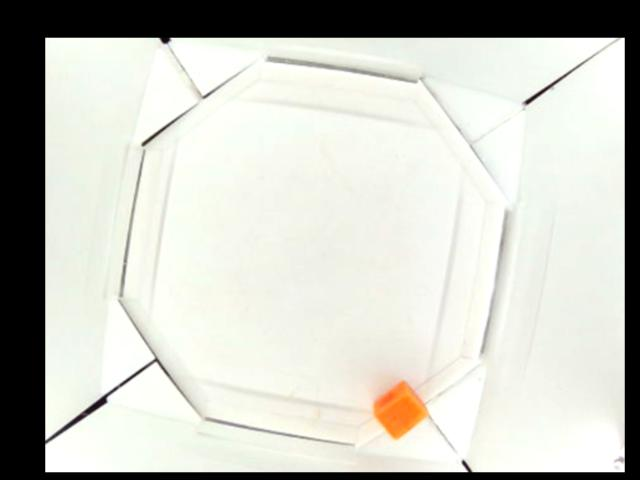Carrot: (371, 379, 425, 441)
